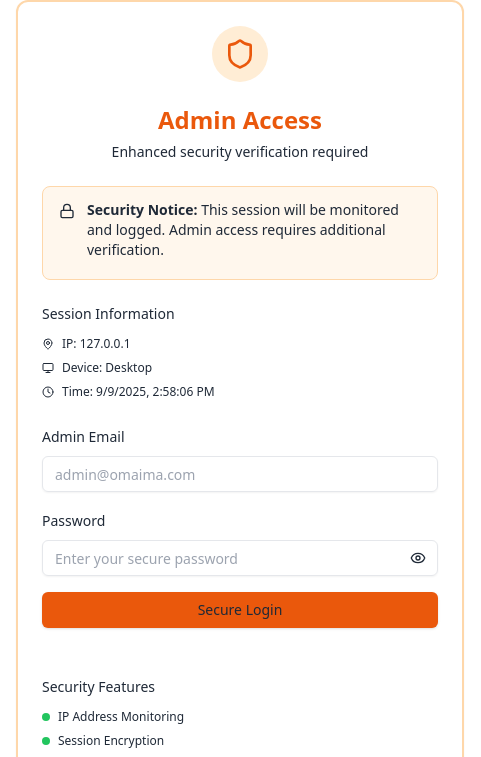
Test: AdminLoginForm Component › should transition to MFA step on successful login with MFA required
In the field labelled "Admin Email": coordinates (240, 474) top-left (42, 456), bottom-right (438, 492), type "admin@example.com"
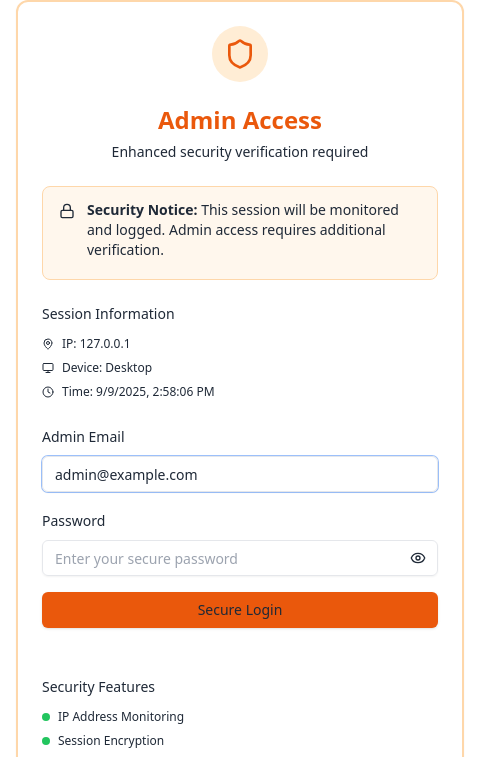
In the password field labelled "Password": coordinates (240, 558) top-left (42, 540), bottom-right (438, 576), type "password123"
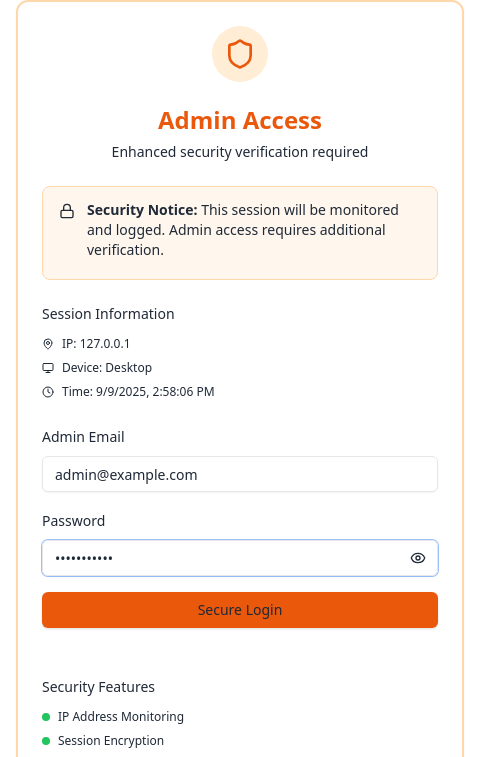
Click the button "Secure Login": coordinates (240, 610) top-left (42, 592), bottom-right (438, 628)
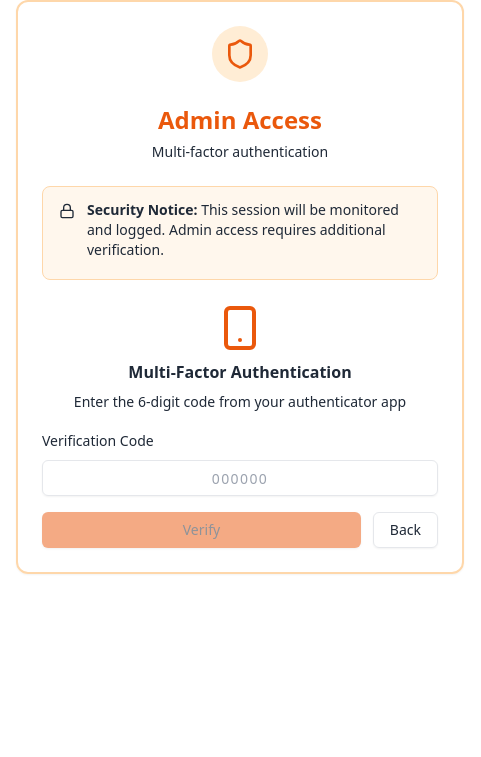
Now the text "Multi-factor authentication" is shown, box top-left (152, 142), bottom-right (328, 161)
Now the field with placeholder "000000" is shown, box top-left (42, 460), bottom-right (438, 496)
